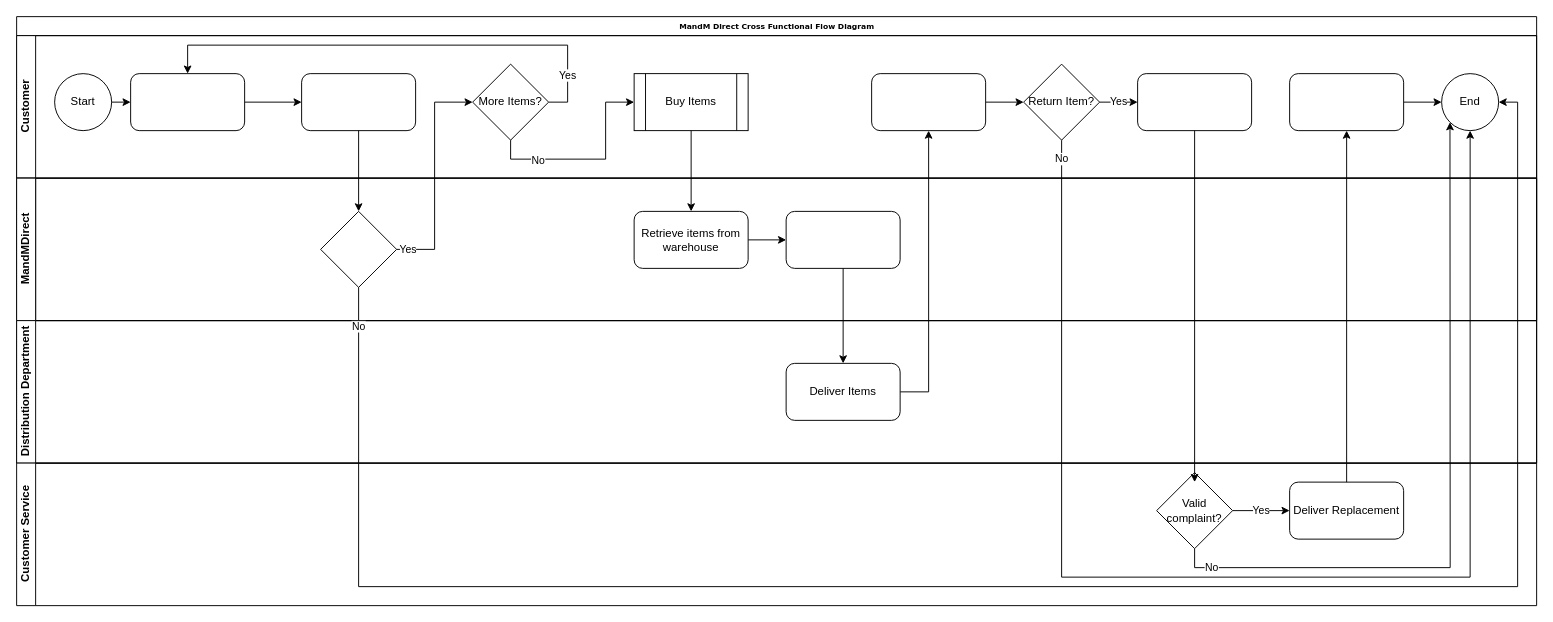
Image size: 1553x622. Some labels were removed from this diagram. Each missing label, with the centre of its shape:
Items Delivered: point 928,102
Items in Stock?: point 358,248
Make Complaint: point 1194,102
Receive Replacement: point 1346,102
Select Item: point 187,102
Select Quantity: point 358,102
Update Stock: point 842,239
